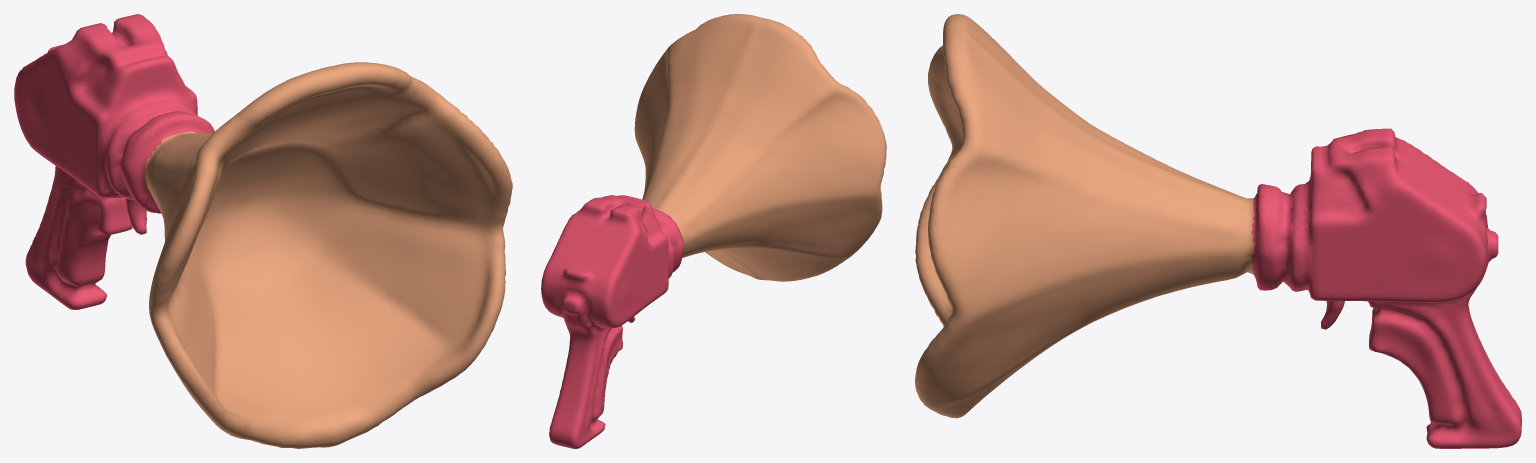
File: gun.glb
The picture shows the model from 3 angles, left to right: view 1: azimuth 30°, elevation 25°; view 2: azimuth 150°, elevation 25°; view 3: azimuth 270°, elevation 25°; orthographic projection. The views are drawn at different scales.
Visible parts, largest first — view 1: 0; view 2: 0; view 3: 0.
Part boxes in pixels (x1,y1,x2,y2): 0: (14, 14, 512, 448); 0: (541, 14, 886, 448); 0: (915, 14, 1521, 448).
Size of the model in its own units: 1.34 by 1.5 by 2.01.
